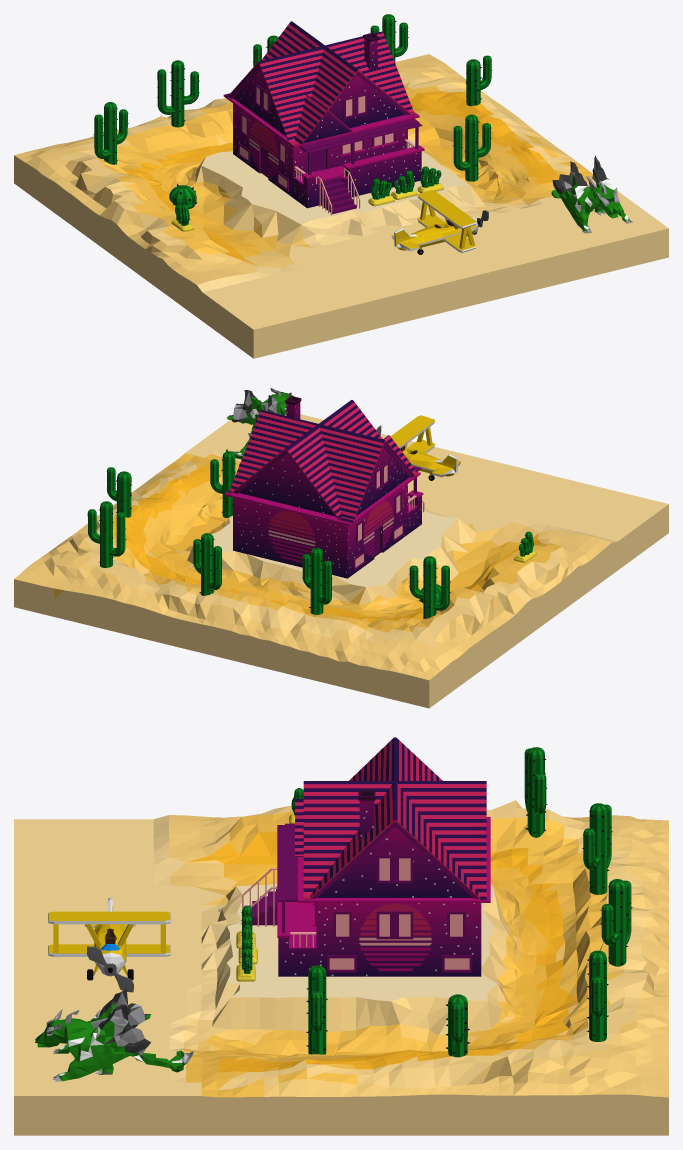
3 views of the same model, one above another, from view 1: azimuth 30°, elevation 25°; view 2: azimuth 150°, elevation 25°; view 3: azimuth 270°, elevation 25° (orthographic). The views are drawn at different scales.
Visible parts, largest first — view 1: Cube.001, Cube.156, VEHICLES_AIRPLANE, ANIMAL_DRAGON, Cylinder.044, Cylinder.037, Cylinder.045, Cylinder.038, Cylinder.042, Cylinder.039, Sphere.023, Cylinder.040; view 2: Cube.001, Cube.156, VEHICLES_AIRPLANE, Cylinder.042, Cylinder.045, Cylinder.044, Cylinder.043, ANIMAL_DRAGON, Cylinder.037, Cylinder.038; view 3: Cube.001, Cube.156, ANIMAL_DRAGON, VEHICLES_AIRPLANE, Cylinder.043, Cylinder.044, Cylinder.045, Cylinder.037, Cylinder.042, Cylinder.038, Cylinder.041.
Part boxes in pixels (x1=…): Cube.001: x1=14, y1=54, x2=668, y2=358; Cube.156: x1=223, y1=21, x2=424, y2=215; VEHICLES_AIRPLANE: x1=391, y1=190, x2=488, y2=254; ANIMAL_DRAGON: x1=551, y1=155, x2=632, y2=233; Cylinder.044: x1=157, y1=60, x2=199, y2=127; Cylinder.037: x1=453, y1=114, x2=491, y2=181; Cylinder.045: x1=93, y1=102, x2=128, y2=164; Cylinder.038: x1=466, y1=55, x2=491, y2=106; Cylinder.042: x1=370, y1=14, x2=408, y2=62; Cylinder.039: x1=368, y1=178, x2=394, y2=206; Sphere.023: x1=169, y1=184, x2=197, y2=208; Cylinder.040: x1=390, y1=170, x2=417, y2=199; Cube.001: x1=14, y1=414, x2=668, y2=708; Cube.156: x1=224, y1=396, x2=424, y2=578; VEHICLES_AIRPLANE: x1=376, y1=415, x2=460, y2=480; Cylinder.042: x1=87, y1=501, x2=126, y2=567; Cylinder.045: x1=409, y1=556, x2=450, y2=618; Cylinder.044: x1=302, y1=548, x2=332, y2=614; Cylinder.043: x1=193, y1=533, x2=222, y2=595; ANIMAL_DRAGON: x1=226, y1=387, x2=293, y2=459; Cylinder.037: x1=210, y1=451, x2=240, y2=517; Cylinder.038: x1=106, y1=467, x2=131, y2=517; Cube.001: x1=14, y1=800, x2=668, y2=1135; Cube.156: x1=241, y1=737, x2=490, y2=976; ANIMAL_DRAGON: x1=35, y1=988, x2=193, y2=1081; VEHICLES_AIRPLANE: x1=48, y1=897, x2=171, y2=992; Cylinder.043: x1=600, y1=879, x2=632, y2=966; Cylinder.044: x1=582, y1=803, x2=612, y2=894; Cylinder.045: x1=524, y1=747, x2=547, y2=837; Cylinder.037: x1=306, y1=965, x2=327, y2=1054; Cylinder.042: x1=587, y1=950, x2=608, y2=1041; Cylinder.038: x1=445, y1=994, x2=469, y2=1057; Cylinder.041: x1=236, y1=938, x2=255, y2=981.
Bounding box in the file's own units: 4002 × 1600 × 4001.
Materials: 31 (4 with a texture image).
